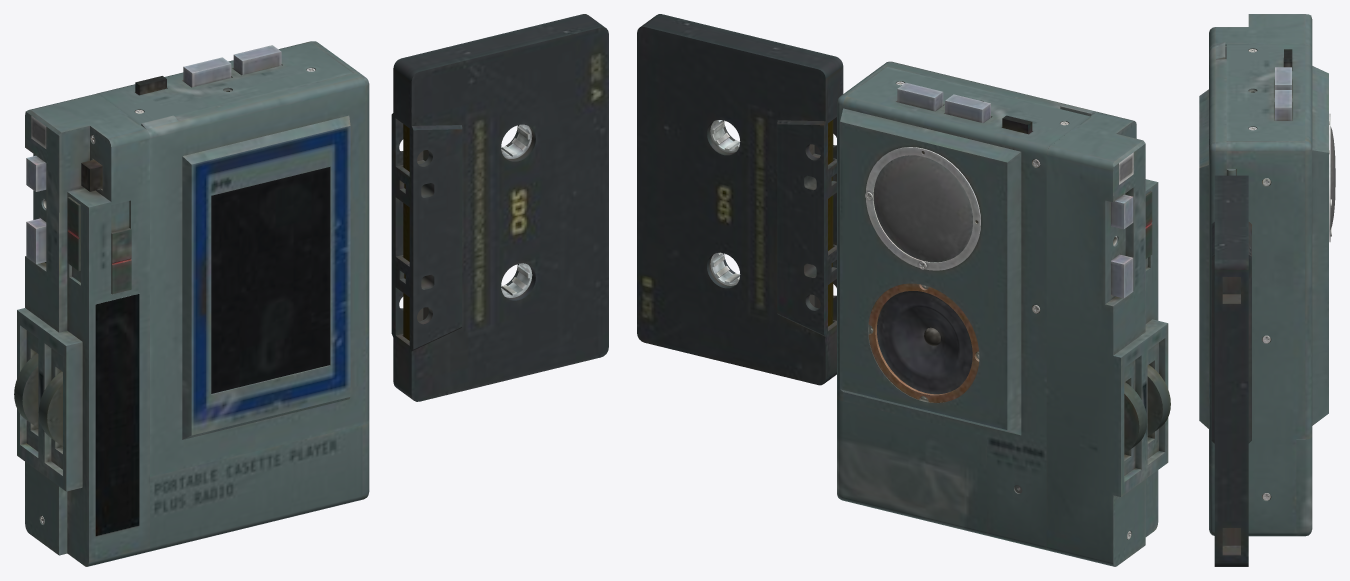
The model's file is portable_cassette_player.glb.
3 views of the same model, side by side, from view 1: azimuth 30°, elevation 25°; view 2: azimuth 150°, elevation 25°; view 3: azimuth 270°, elevation 25° (orthographic). The views are drawn at different scales.
Visible parts, largest first — view 1: portable_cassette_player, portable_cassette_player_lid, portable_cassette_player_casette; view 2: portable_cassette_player, portable_cassette_player_casette, portable_cassette_player_lid; view 3: portable_cassette_player, portable_cassette_player_casette, portable_cassette_player_lid.
Boxes of the visible parts, <box> form: portable_cassette_player: <box>14,41,369,566</box>; portable_cassette_player_lid: <box>141,72,369,476</box>; portable_cassette_player_casette: <box>391,14,608,401</box>; portable_cassette_player: <box>837,66,1170,566</box>; portable_cassette_player_casette: <box>637,14,843,385</box>; portable_cassette_player_lid: <box>881,61,1097,116</box>; portable_cassette_player: <box>1209,14,1335,536</box>; portable_cassette_player_casette: <box>1211,175,1251,566</box>; portable_cassette_player_lid: <box>1199,42,1235,466</box>.
Size of the model in its own units: 0.1723 by 0.1303 by 0.0397.
2 materials, 2 textured.
